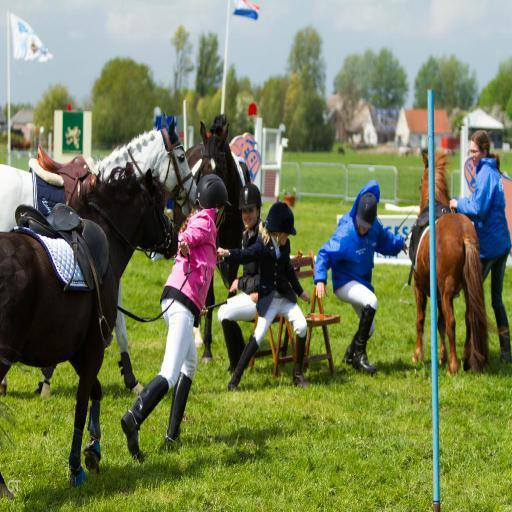horse: (0, 163, 179, 496), (0, 117, 199, 397), (408, 152, 508, 374), (170, 114, 252, 368)
